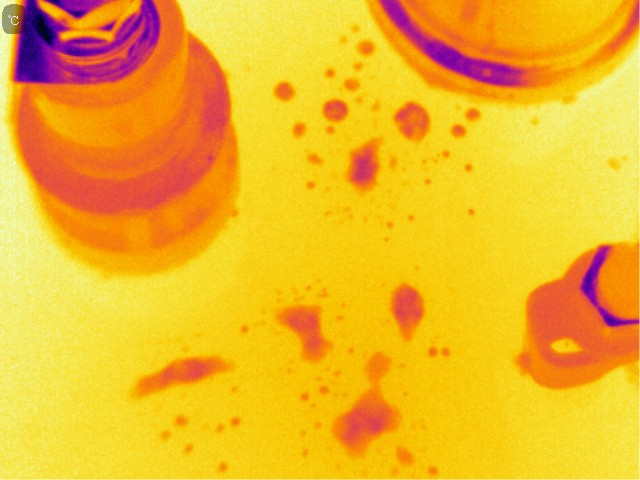Water: (333, 353, 400, 450), (131, 356, 235, 402), (272, 304, 328, 364), (345, 135, 382, 188), (389, 444, 440, 477), (392, 283, 424, 335), (395, 99, 431, 138), (452, 105, 477, 140), (319, 96, 346, 124), (214, 454, 242, 480), (213, 415, 254, 431), (298, 149, 326, 170), (288, 118, 309, 141), (274, 80, 295, 101), (461, 201, 483, 220), (167, 412, 191, 428), (178, 440, 198, 454), (358, 40, 372, 57), (155, 430, 171, 441)
